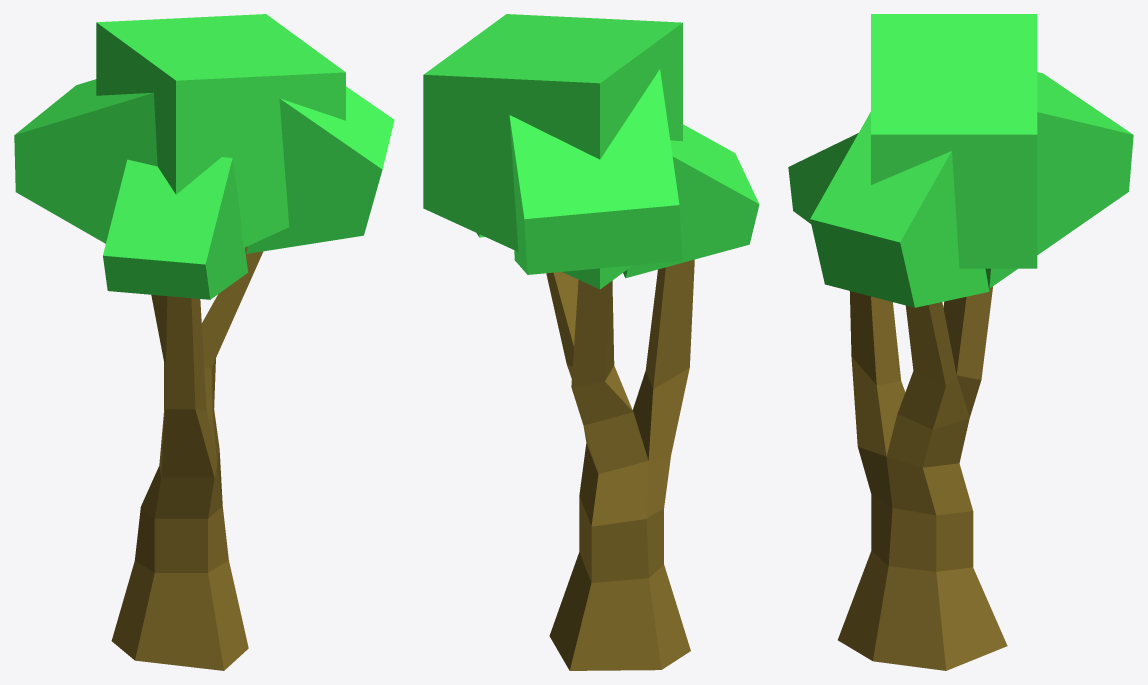
Rendered from tree_02.fbx.
3 renders of one model, left to right at view 1: azimuth 30°, elevation 25°; view 2: azimuth 150°, elevation 25°; view 3: azimuth 270°, elevation 25°, orthographic. The views are drawn at different scales.
Visible parts, largest first — view 1: tree_02; view 2: tree_02; view 3: tree_02.
Boxes of the visible parts, left/top/right/bottom form: tree_02: left=14, top=14, right=394, bottom=670; tree_02: left=423, top=14, right=759, bottom=670; tree_02: left=788, top=14, right=1133, bottom=670.
Bounding box in the file's own units: 670 × 1200 × 616.
